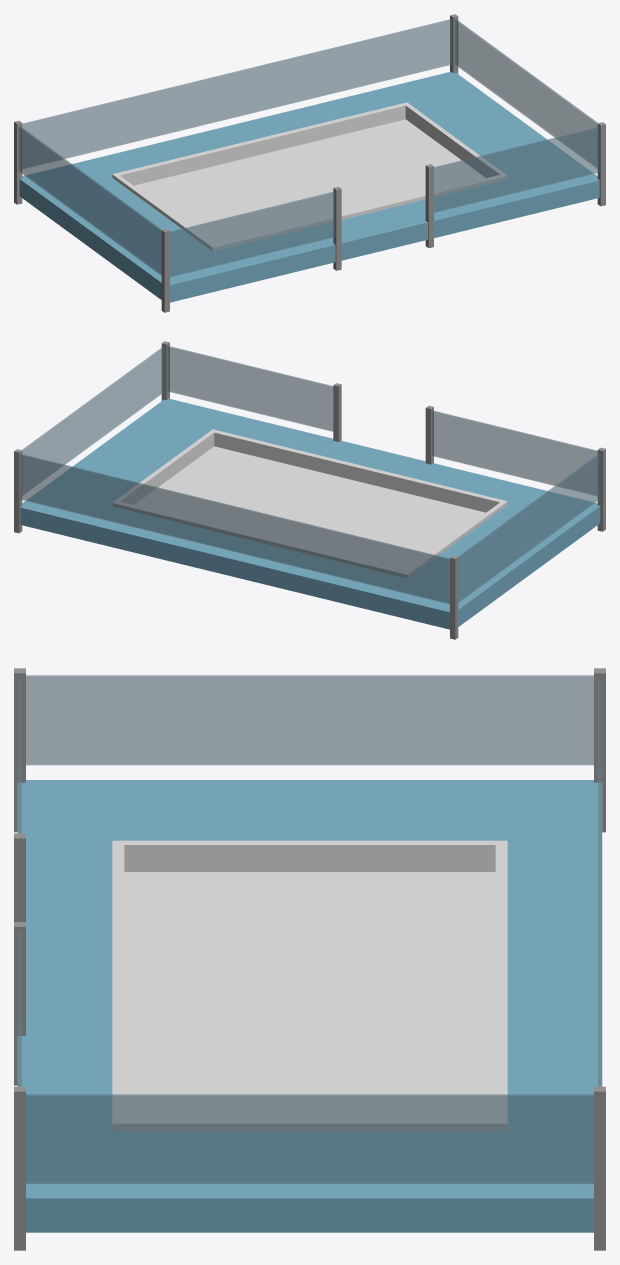
File: pool.fbx
3 views of the same model, one above another, from view 1: azimuth 30°, elevation 25°; view 2: azimuth 150°, elevation 25°; view 3: azimuth 270°, elevation 25° (orthographic). The views are drawn at different scales.
Parts seen in each view (by area): view 1: Cube, Cube.005, Cube.004, Cube.003, Cube.001, Cube.002; view 2: Cube, Cube.005, Cube.004, Cube.003, Cube.001, Cube.002; view 3: Cube, Cube.003, Cube.001, Cube.002, Cube.005, Cube.004.
Part boxes in pixels (left/top/right/bottom): Cube: left=19, top=71, right=599, bottom=302; Cube.005: left=22, top=19, right=451, bottom=168; Cube.004: left=170, top=127, right=599, bottom=277; Cube.003: left=19, top=20, right=597, bottom=275; Cube.001: left=14, top=14, right=605, bottom=312; Cube.002: left=333, top=164, right=433, bottom=270; Cube: left=20, top=398, right=600, bottom=629; Cube.005: left=20, top=454, right=449, bottom=604; Cube.004: left=168, top=346, right=597, bottom=495; Cube.003: left=22, top=347, right=600, bottom=602; Cube.001: left=14, top=341, right=605, bottom=639; Cube.002: left=333, top=383, right=433, bottom=464; Cube: left=17, top=780, right=602, bottom=1232; Cube.003: left=26, top=675, right=593, bottom=1183; Cube.001: left=14, top=668, right=605, bottom=1250; Cube.002: left=14, top=833, right=25, bottom=1085; Cube.005: left=598, top=679, right=601, bottom=1086; Cube.004: left=18, top=679, right=21, bottom=1086.
Size of the model in its own units: 2563 by 448 by 1514.
